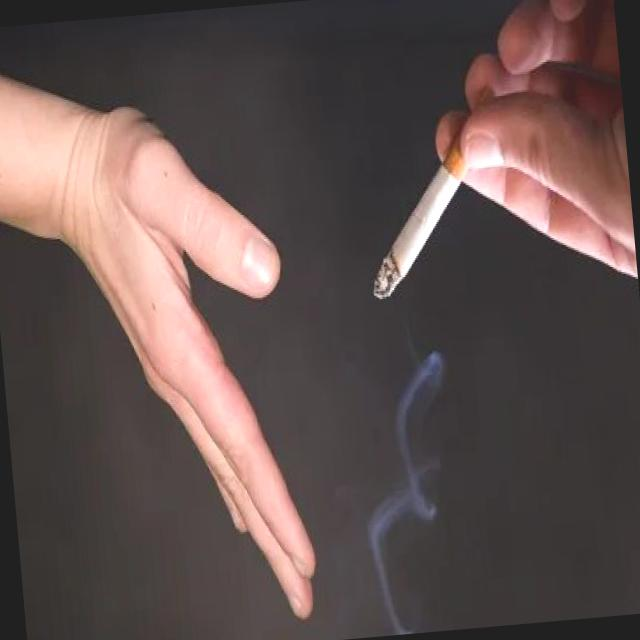smoke: (353, 86, 516, 310)
